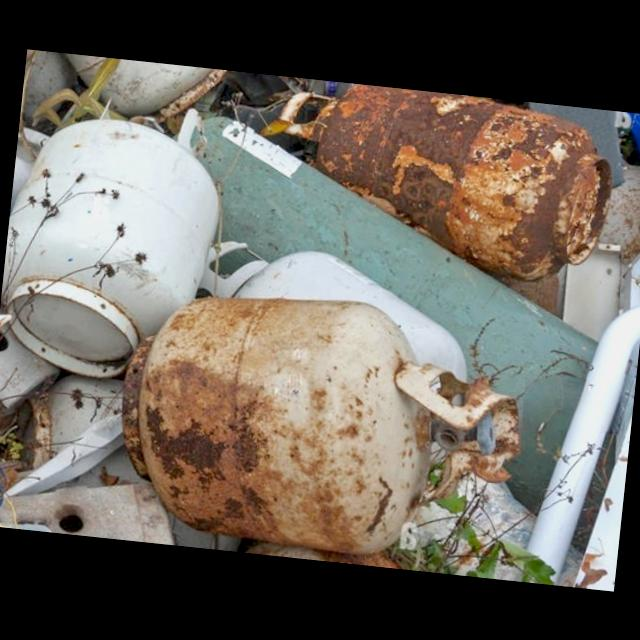Cylinders: (116, 295, 509, 548), (279, 83, 608, 290), (0, 121, 221, 372)
